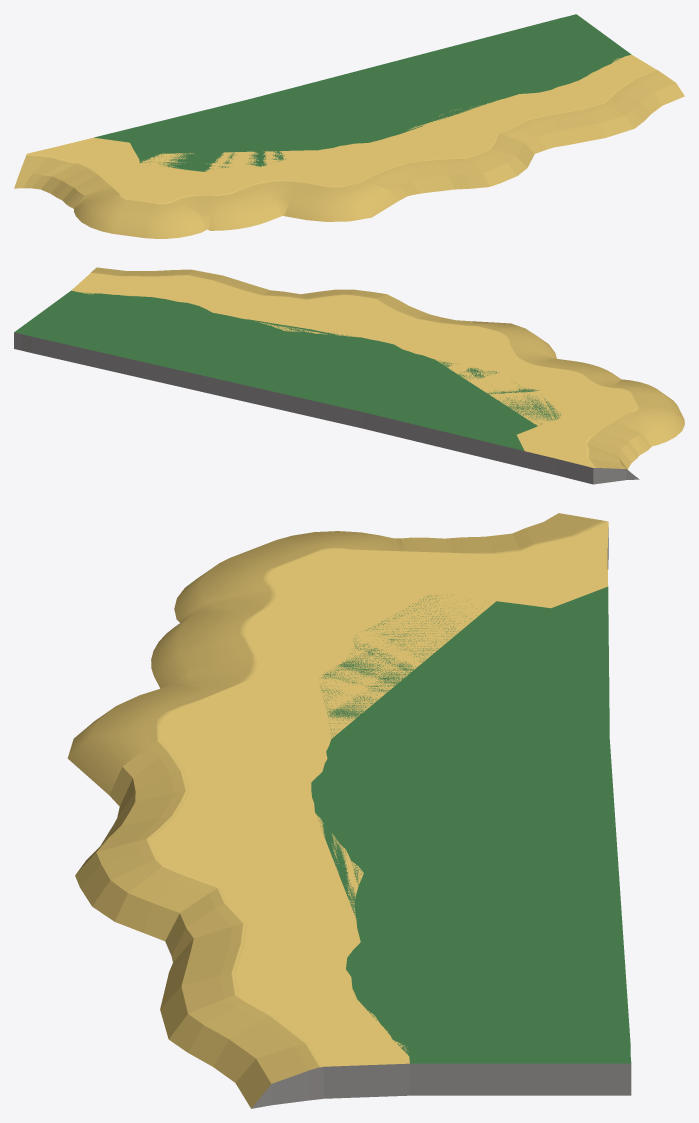
The model's file is GroundFocusArea.fbx.
The picture shows the model from 3 angles, top to bottom: view 1: azimuth 30°, elevation 25°; view 2: azimuth 150°, elevation 25°; view 3: azimuth 270°, elevation 25°; orthographic projection. The views are drawn at different scales.
Visible parts, largest first — view 1: GroundFocusArea; view 2: GroundFocusArea; view 3: GroundFocusArea.
Boxes of the visible parts, x1,y1,x2,y2 form: GroundFocusArea: (14, 14, 684, 238); GroundFocusArea: (14, 267, 684, 484); GroundFocusArea: (67, 513, 631, 1108).
Size of the model in its own units: 17697 by 453 by 7226.
